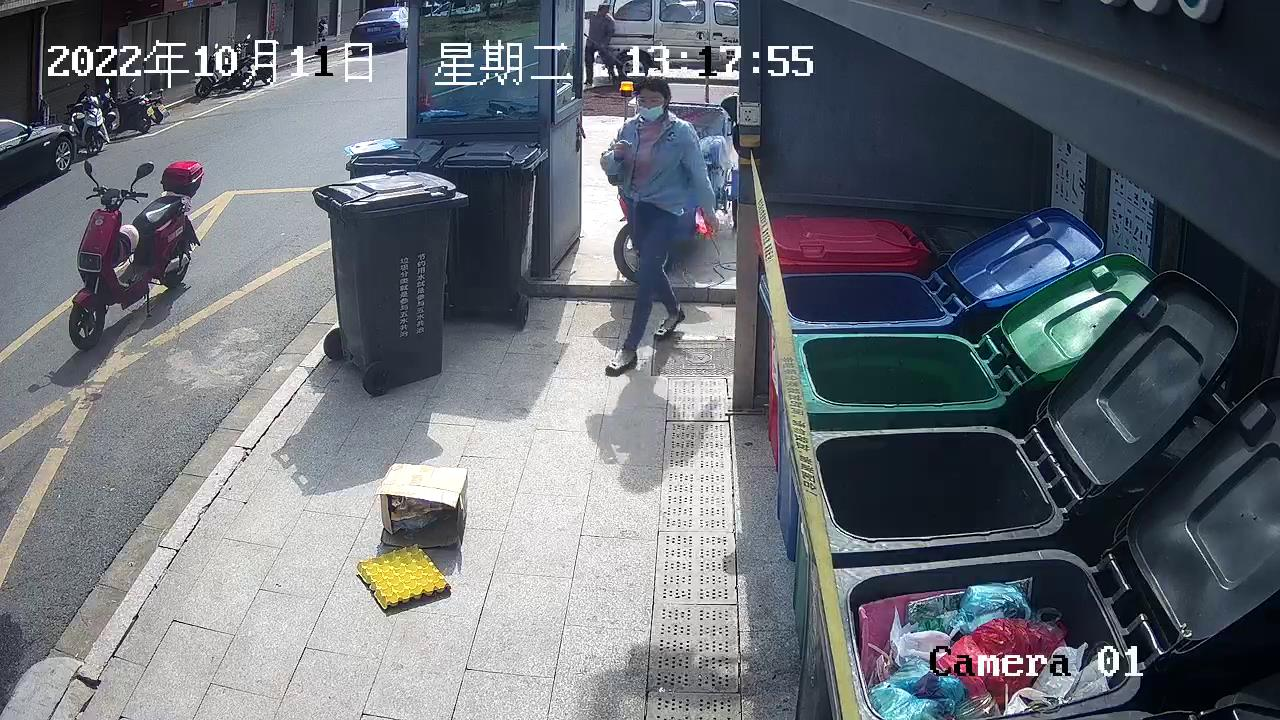worker: (598, 73, 720, 377)
zhizhipin: (374, 460, 471, 549), (354, 540, 451, 616)
